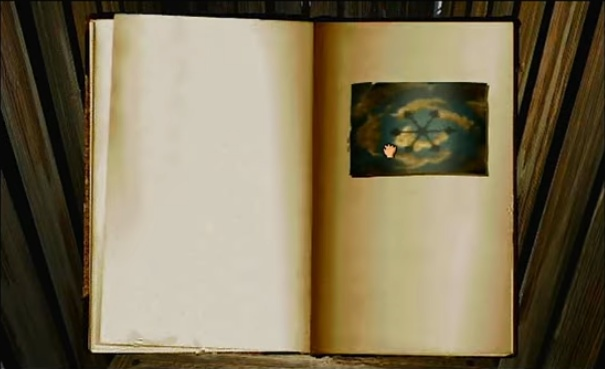Hold: (379, 140, 401, 160)
